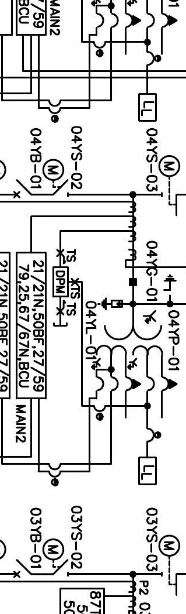115_1way_ds_w_motor: (157, 154, 180, 217), (158, 534, 181, 596), (42, 538, 69, 577), (42, 158, 69, 197)
115_breaker: (13, 179, 32, 199), (13, 559, 31, 578)
115_gs: (162, 273, 177, 297)
115_la: (97, 297, 123, 311)
115_vt_3p: (91, 309, 178, 392)
DPM: (52, 266, 69, 297)
LL: (138, 92, 157, 122), (138, 456, 157, 485)
